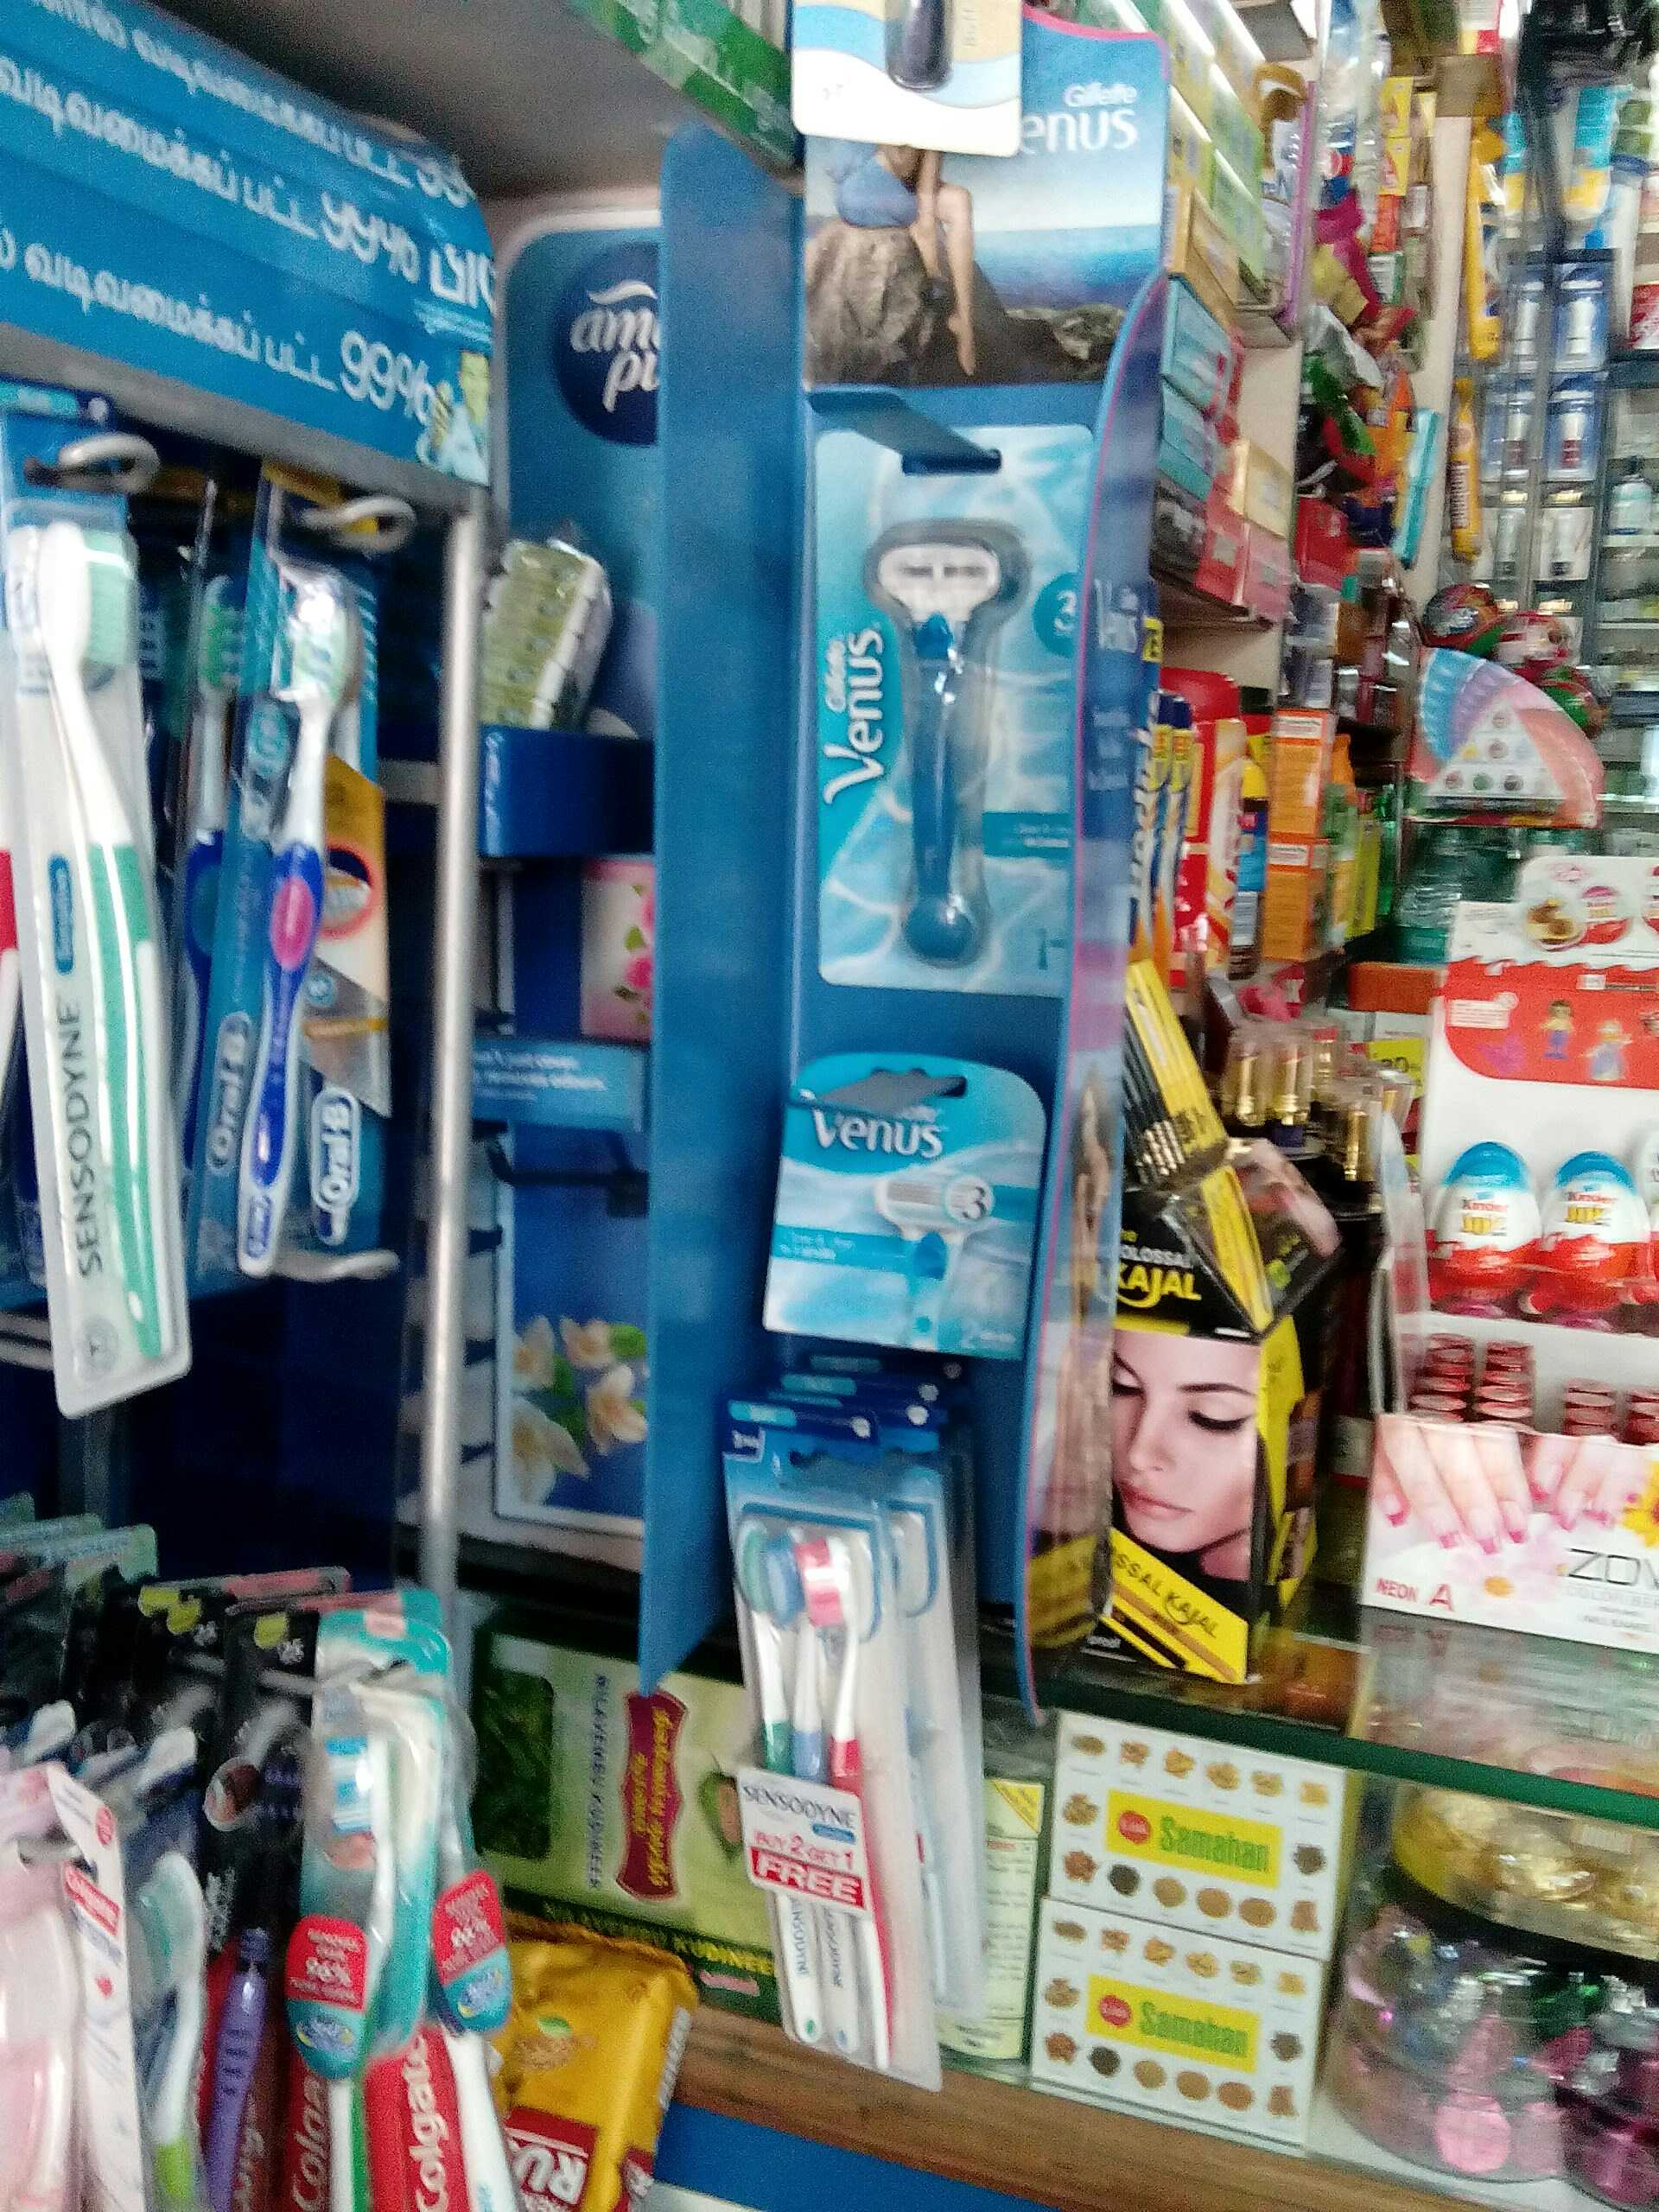venus: (807, 448, 1119, 977), (769, 1052, 1046, 1371)
